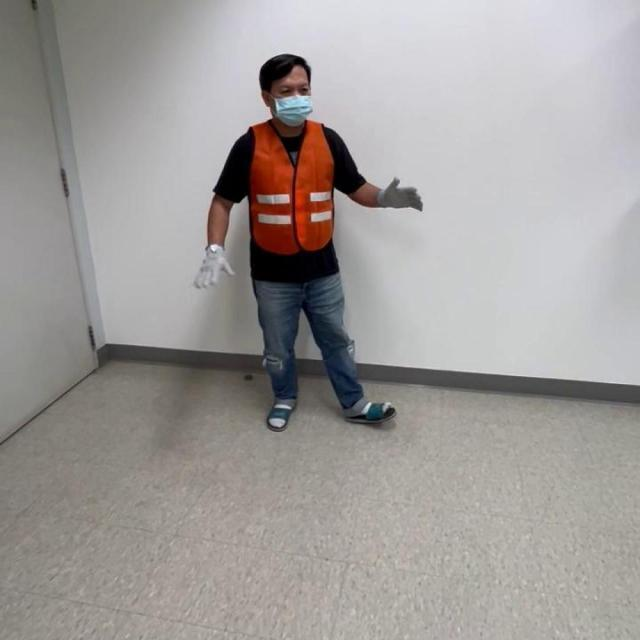gloved_hand: (374, 171, 422, 218), (192, 242, 233, 295)
